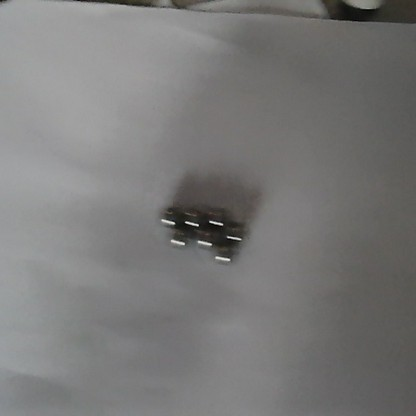ironball: (154, 198, 183, 229), (163, 225, 189, 253), (204, 205, 229, 234), (220, 220, 245, 249), (181, 207, 203, 232), (213, 243, 239, 264), (194, 228, 214, 251)
